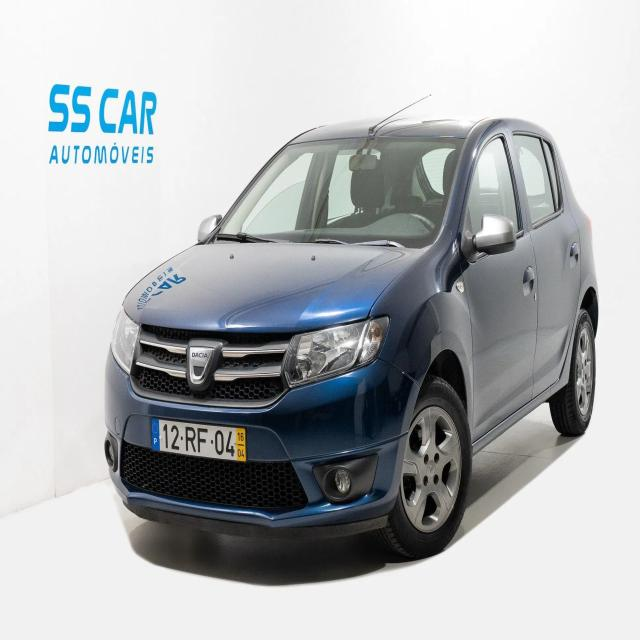portuguese-license-plates: (150, 415, 249, 465)
